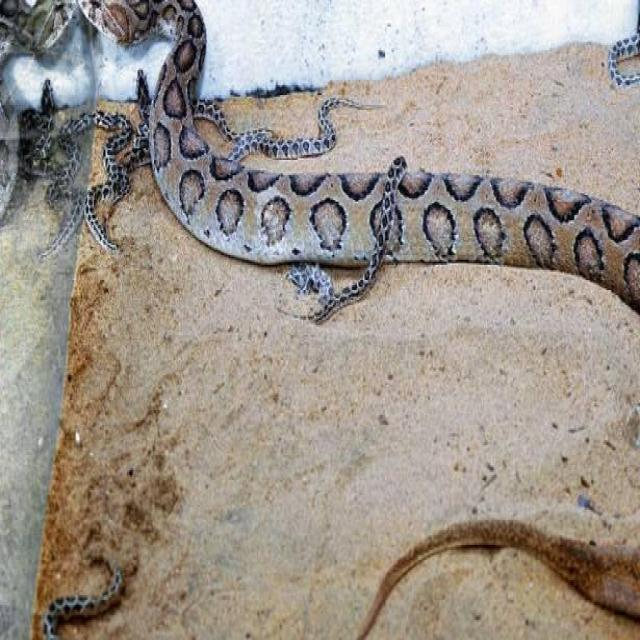Snake: (84, 0, 637, 322)
